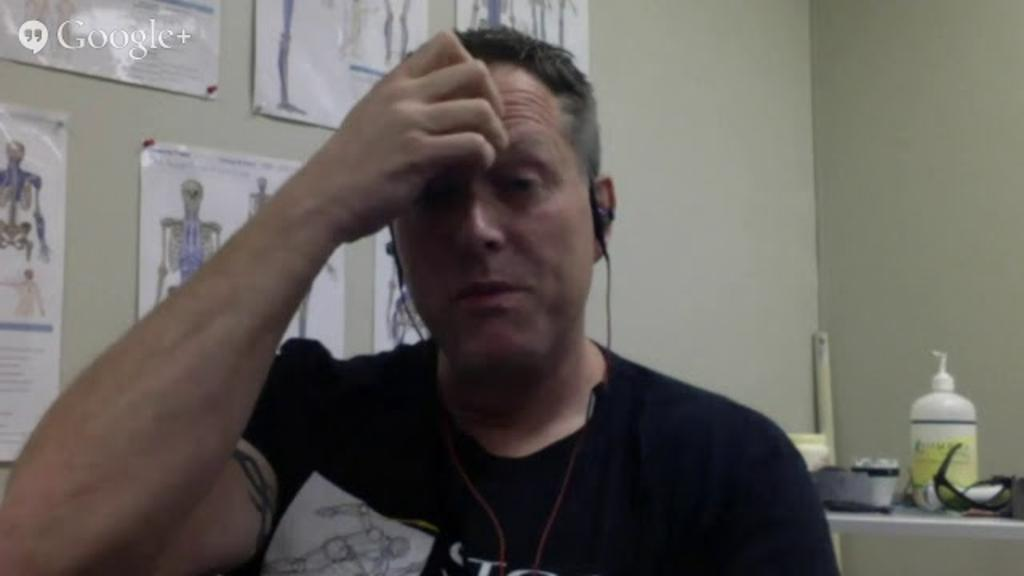face: (404, 62, 584, 384)
